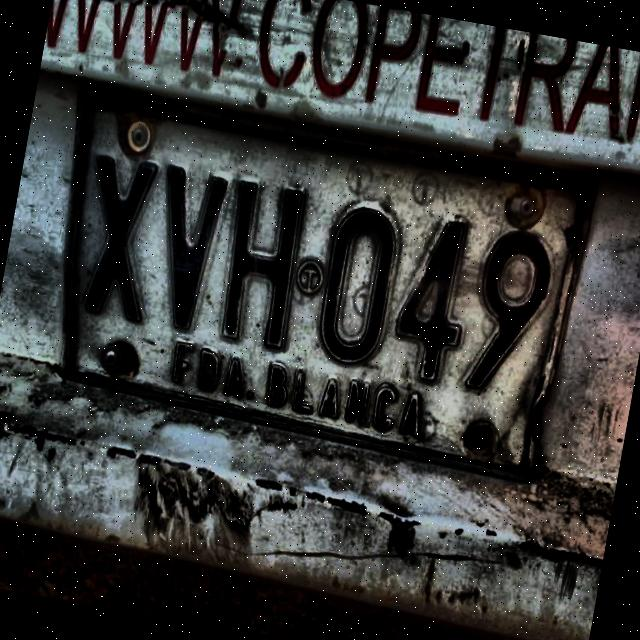plate: (67, 95, 588, 474)
